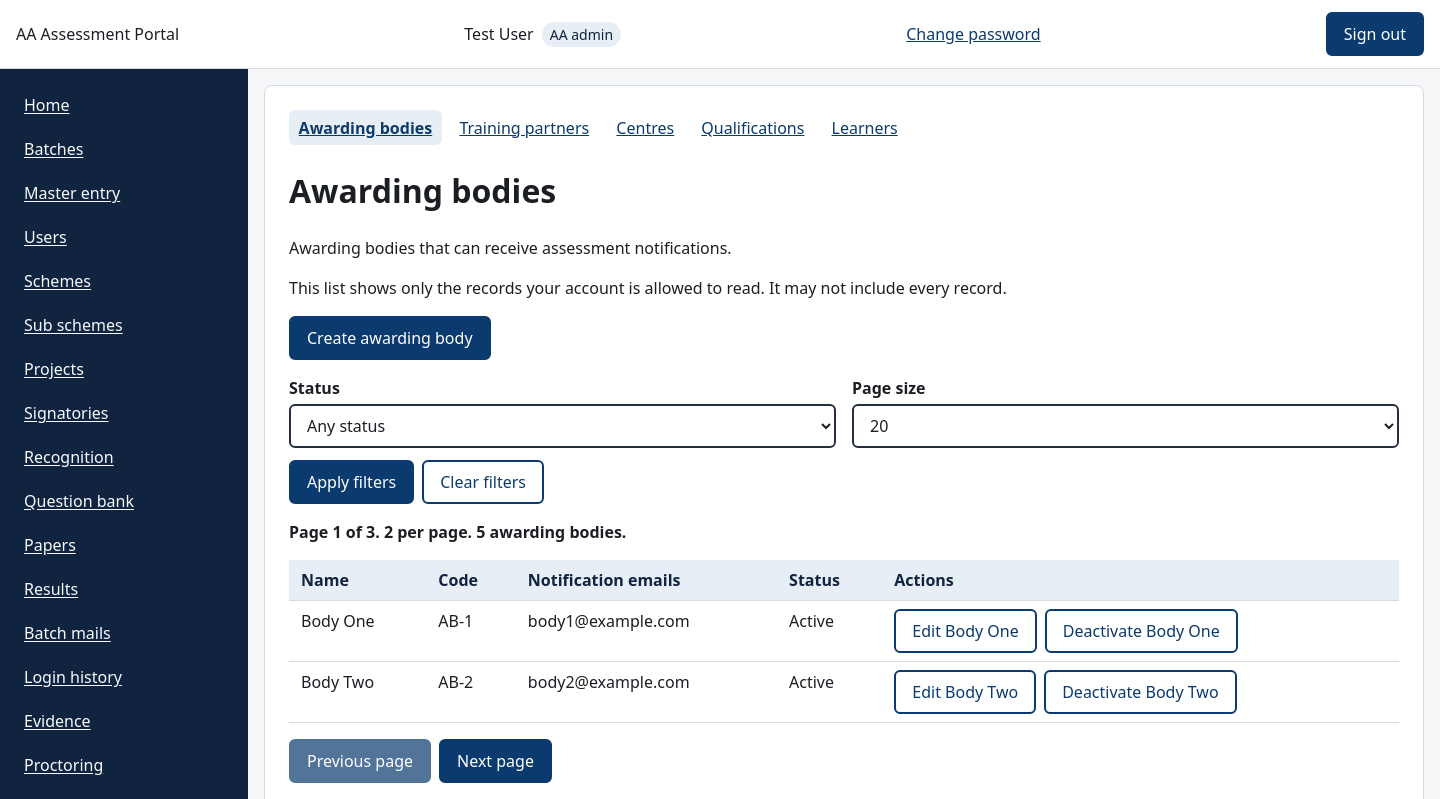
it: pages awarding bodies with the returned page, pageSize, and total
This screenshot has width=1440, height=799.
Check: the text "Page 1 of 3. 2 per page. 5 awarding bodies." is shown, box [289,521,626,543]
Check: the button "Previous page" is disabled, box [289,739,431,783]
Click the button "Next page". click: click(496, 761)
box: [439,739,552,783]
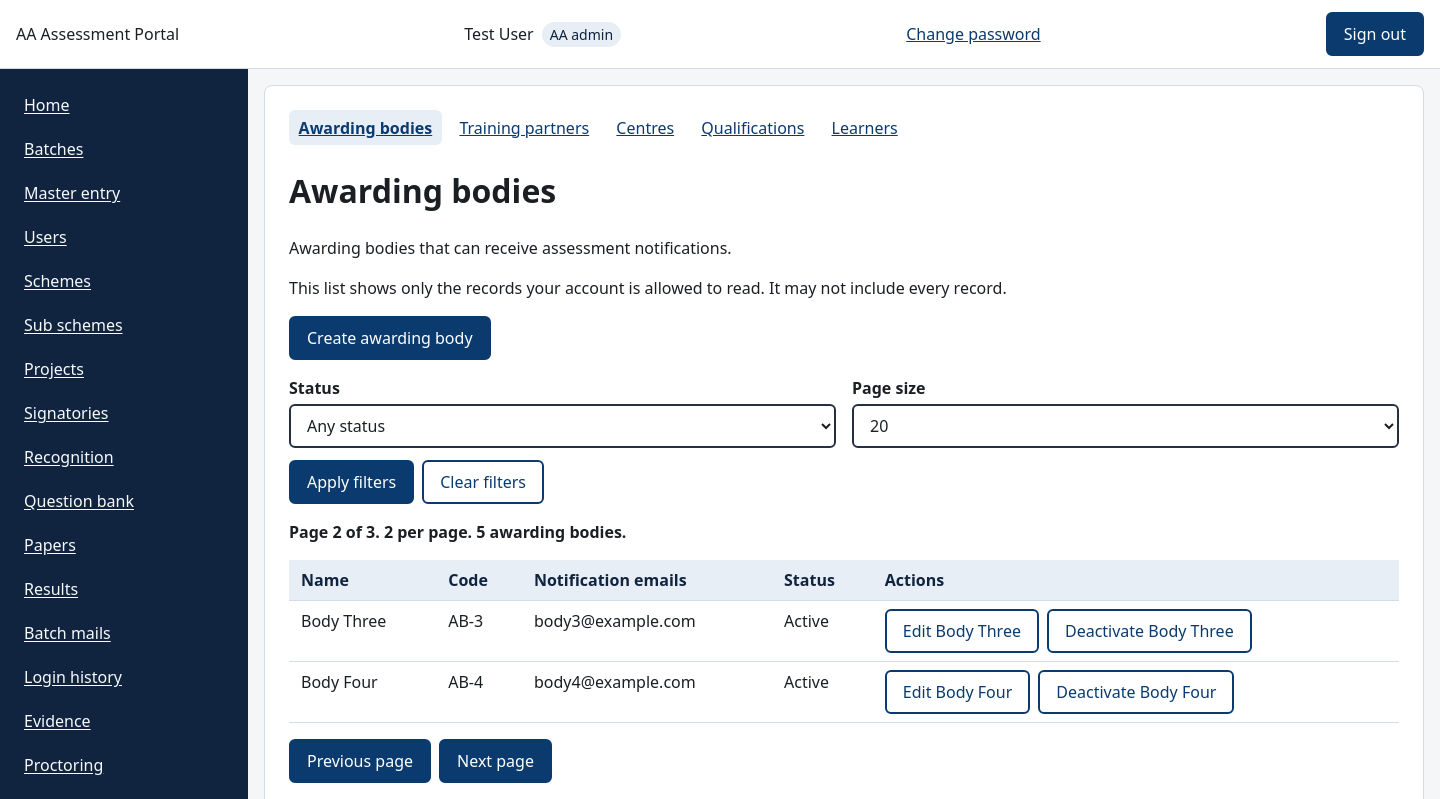
Check: the cell "Body Three" is shown, box [289,601,436,662]
